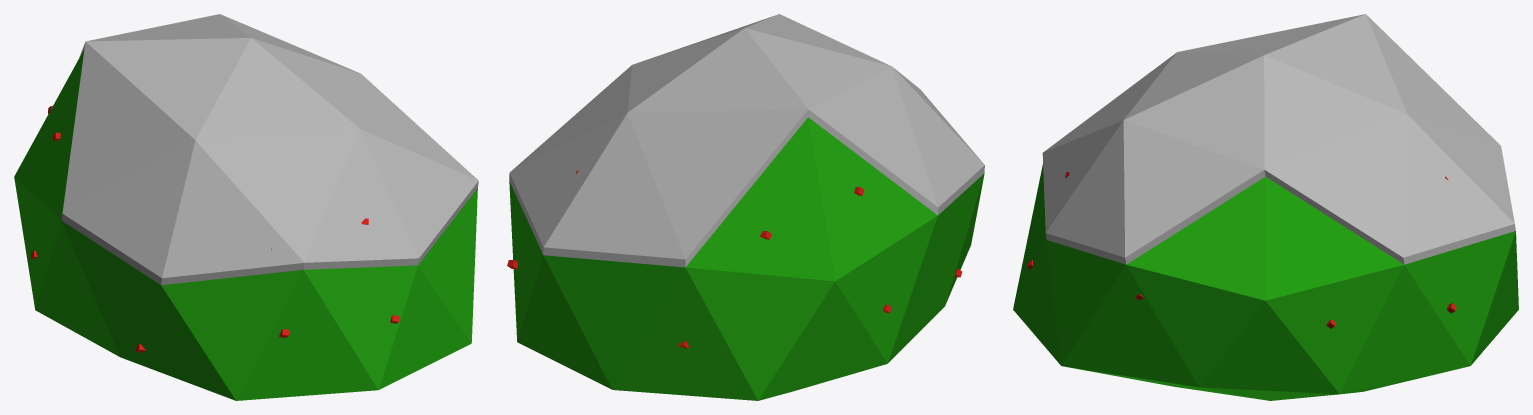
The model's file is Bush_3 Winter.fbx.
The picture shows the model from 3 angles, left to right: view 1: azimuth 30°, elevation 25°; view 2: azimuth 150°, elevation 25°; view 3: azimuth 270°, elevation 25°; orthographic projection. The views are drawn at different scales.
Visible parts, largest first — view 1: Bush3Winter_mesh; view 2: Bush3Winter_mesh; view 3: Bush3Winter_mesh.
Part boxes in pixels (x1=…): Bush3Winter_mesh: x1=14, y1=14, x2=478, y2=400; Bush3Winter_mesh: x1=507, y1=14, x2=984, y2=400; Bush3Winter_mesh: x1=1013, y1=14, x2=1518, y2=400.
Size of the model in its own units: 203 by 155 by 239.
